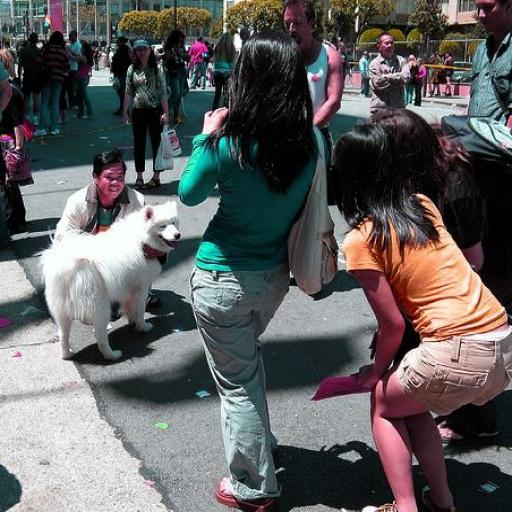dog_face: (144, 201, 187, 256)
